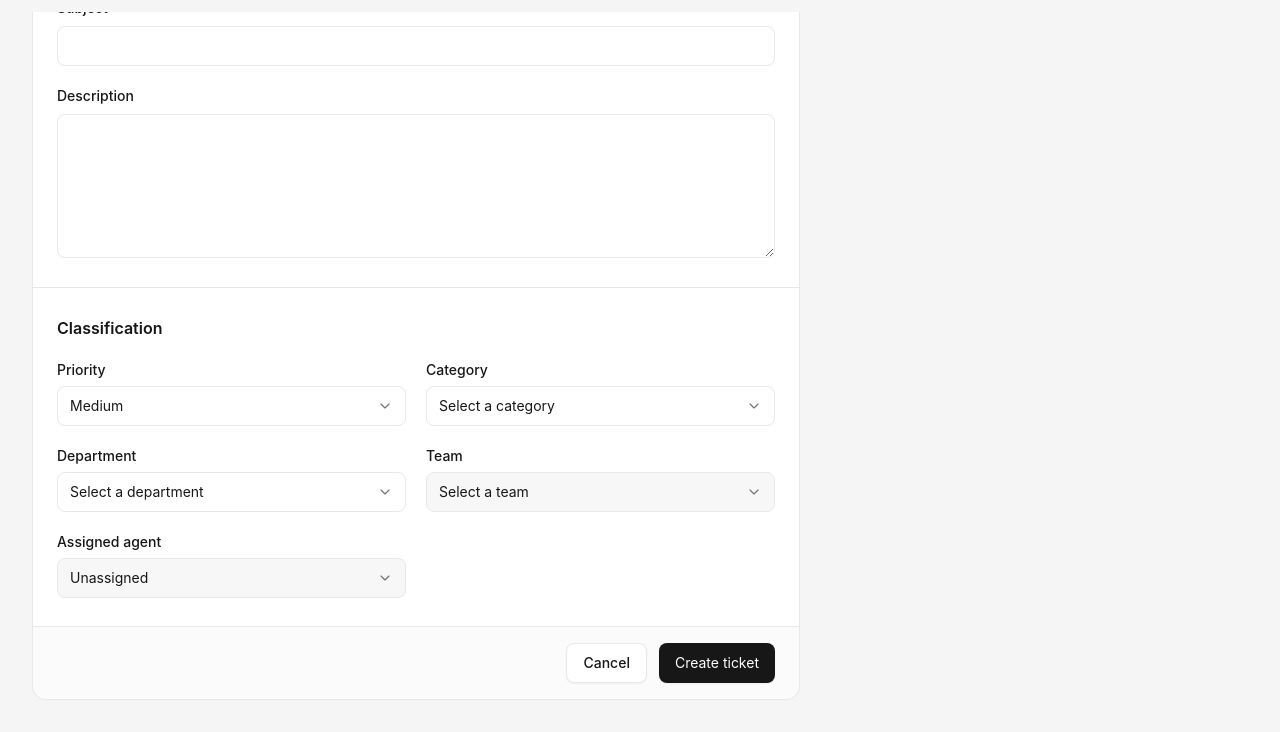
Scenario: ticket pages › validates ticket creation and preserves mutation boundaries
(page scrolled)
Click the button "Create ticket": [717, 663] box left=659, top=643, right=775, bottom=683
(page scrolled)
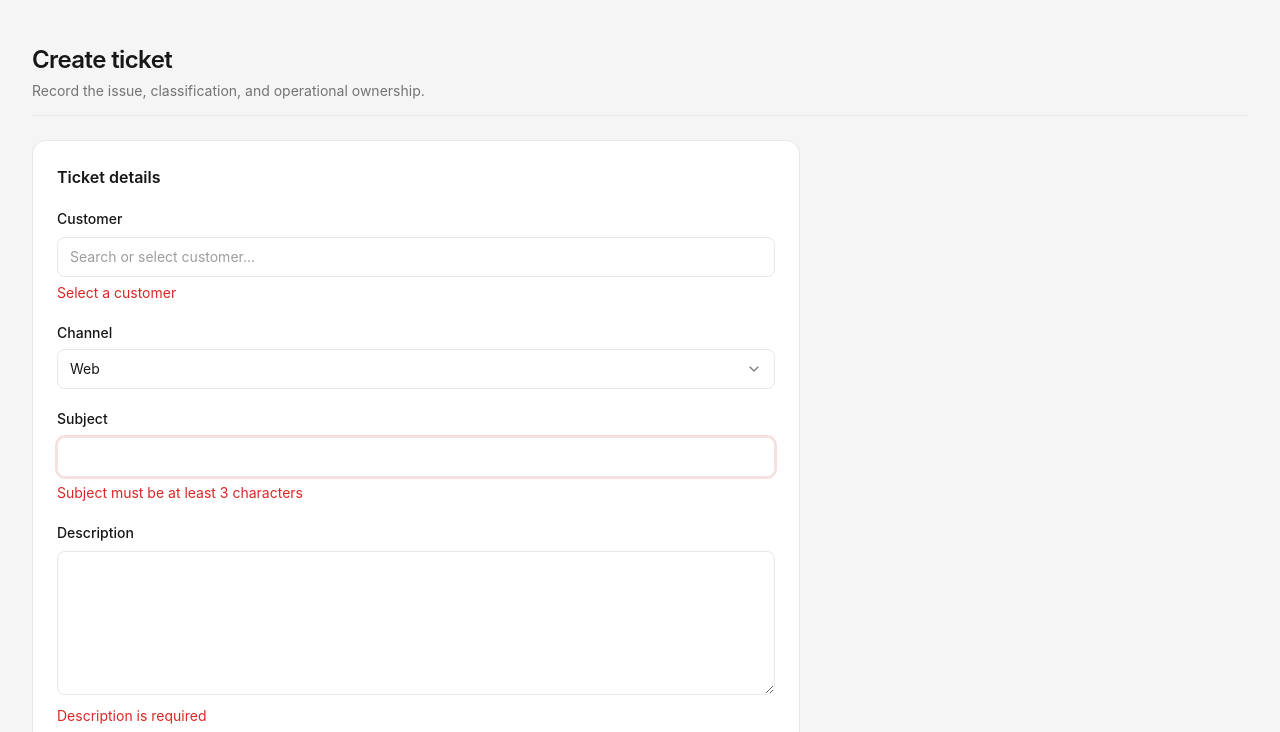
Expected: the text "Select a customer" is shown, left=57, top=284, right=176, bottom=301
